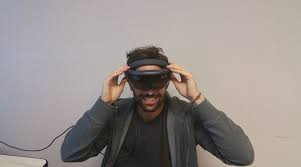hololens: (122, 55, 174, 93)
